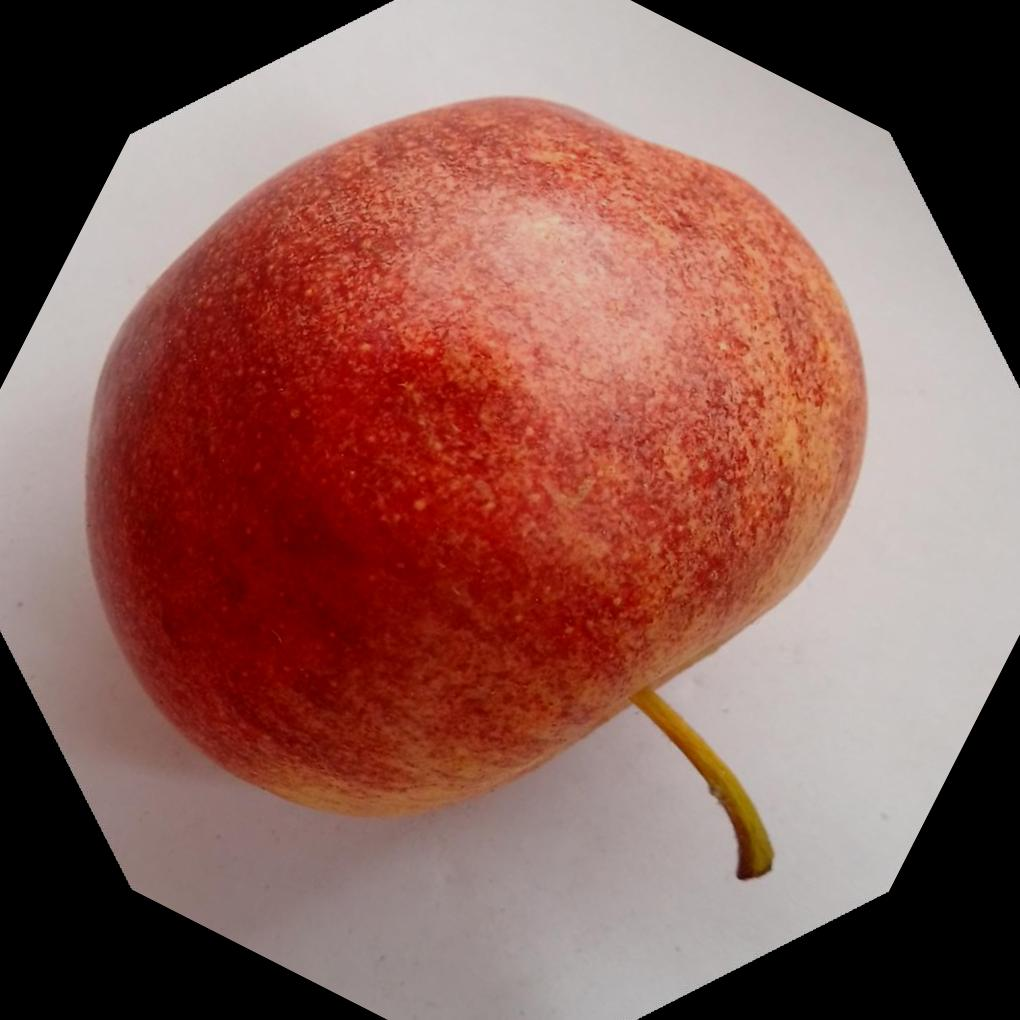FreshGuava: (83, 93, 873, 821)
